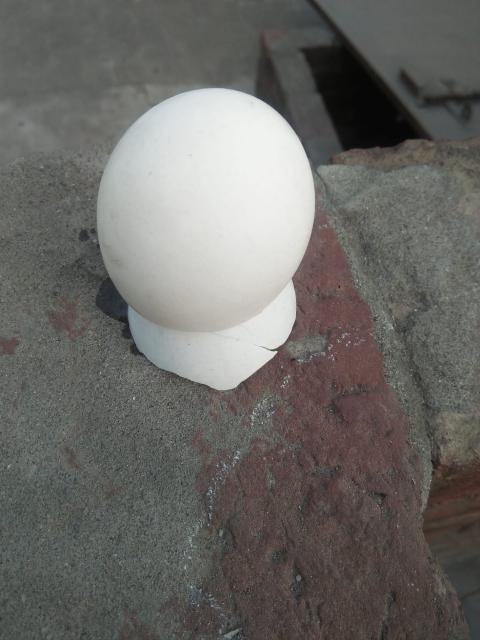Roto: (95, 86, 316, 390)
